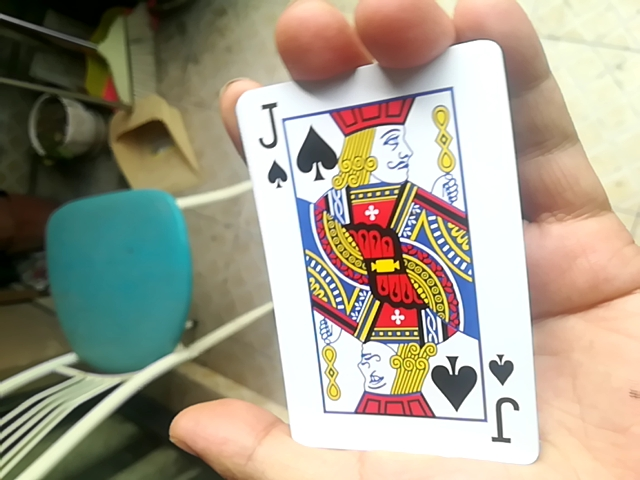ht j: (242, 37, 536, 466)
